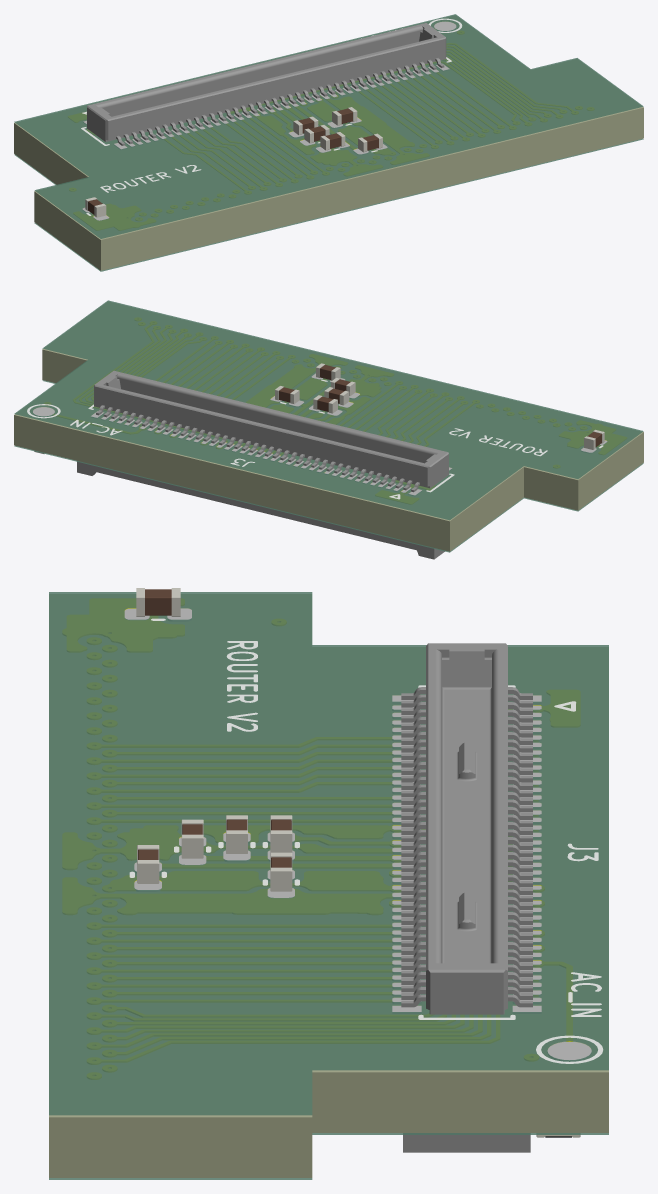
File: router.glb
3 renders of one model, top to bottom at view 1: azimuth 30°, elevation 25°; view 2: azimuth 150°, elevation 25°; view 3: azimuth 270°, elevation 25°, orthographic. The views are drawn at different scales.
Parts seen in each view (by area): view 1: =>[0:1:1:17], =>[0:1:1:15], =>[0:1:1:5], =>[0:1:1:10], =>[0:1:1:11], =>[0:1:1:16], =>[0:1:1:13]; view 2: =>[0:1:1:17], =>[0:1:1:15], =>[0:1:1:5], =>[0:1:1:10], =>[0:1:1:9], =>[0:1:1:11], =>[0:1:1:16], =>[0:1:1:13]; view 3: =>[0:1:1:15], =>[0:1:1:17], =>[0:1:1:10], =>[0:1:1:5], =>[0:1:1:11], =>[0:1:1:3] (×6), =>[0:1:1:13], =>[0:1:1:9], =>[0:1:1:16].
Part boxes in pixels (left/top/right/bottom): =>[0:1:1:17]: left=14, top=16, right=643, bottom=270; =>[0:1:1:15]: left=14, top=14, right=643, bottom=238; =>[0:1:1:5]: left=87, top=23, right=446, bottom=145; =>[0:1:1:10]: left=68, top=31, right=593, bottom=230; =>[0:1:1:11]: left=82, top=21, right=456, bottom=220; =>[0:1:1:16]: left=14, top=138, right=643, bottom=271; =>[0:1:1:13]: left=81, top=18, right=462, bottom=215; =>[0:1:1:17]: left=14, top=302, right=643, bottom=551; =>[0:1:1:15]: left=14, top=300, right=643, bottom=520; =>[0:1:1:5]: left=94, top=370, right=448, bottom=492; =>[0:1:1:10]: left=44, top=318, right=626, bottom=503; =>[0:1:1:9]: left=77, top=461, right=444, bottom=559; =>[0:1:1:11]: left=33, top=373, right=607, bottom=495; =>[0:1:1:16]: left=14, top=380, right=643, bottom=552; =>[0:1:1:13]: left=27, top=379, right=603, bottom=499; =>[0:1:1:15]: left=49, top=592, right=608, bottom=1115; =>[0:1:1:17]: left=49, top=594, right=608, bottom=1177; =>[0:1:1:10]: left=63, top=599, right=579, bottom=1079; =>[0:1:1:5]: left=401, top=643, right=532, bottom=1014; =>[0:1:1:11]: left=124, top=608, right=591, bottom=1061; =>[0:1:1:3] (×6): left=136, top=588, right=292, bottom=891; =>[0:1:1:13]: left=129, top=618, right=603, bottom=1063; =>[0:1:1:9]: left=403, top=1133, right=530, bottom=1152; =>[0:1:1:16]: left=49, top=1133, right=608, bottom=1179.
Size of the model in its own units: 0.0279 by 0.00427 by 0.0126.
